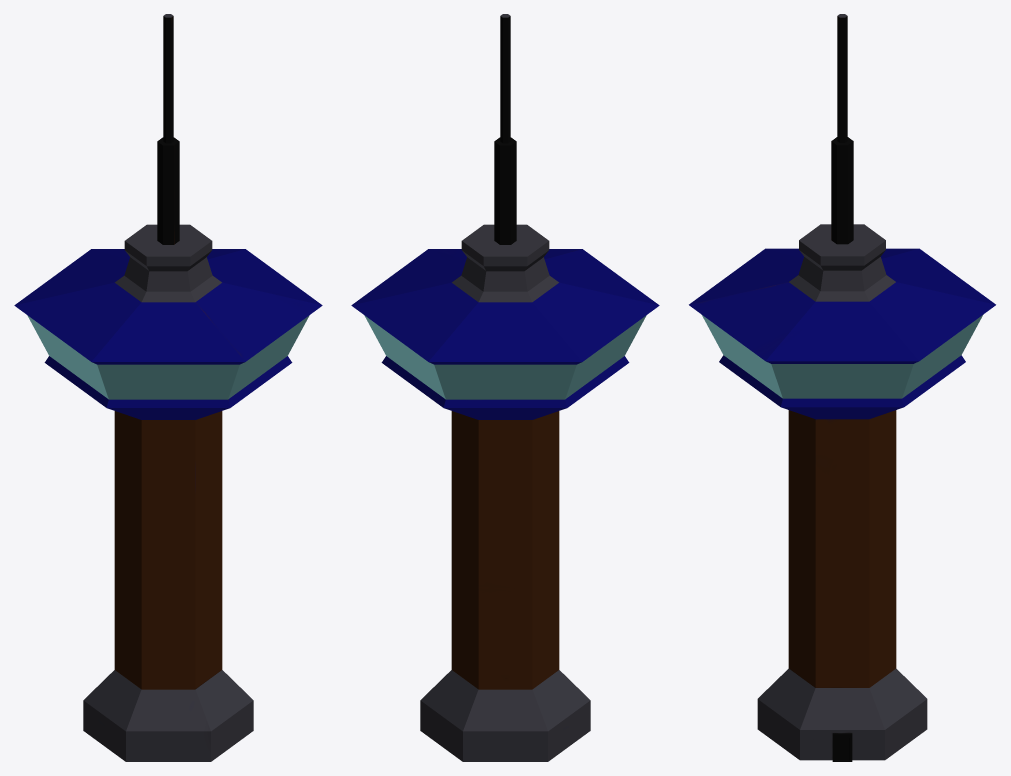
Rendered from Tower.fbx.
3 views of the same model, side by side, from view 1: azimuth 30°, elevation 25°; view 2: azimuth 150°, elevation 25°; view 3: azimuth 270°, elevation 25° (orthographic).
Visible parts, largest first — view 1: Tower; view 2: Tower; view 3: Tower.
Boxes of the visible parts, x1=… form: Tower: x1=14, y1=14, x2=322, y2=761; Tower: x1=351, y1=14, x2=659, y2=761; Tower: x1=689, y1=14, x2=995, y2=761.
Size of the model in its own units: 2977 by 8786 by 3437.
